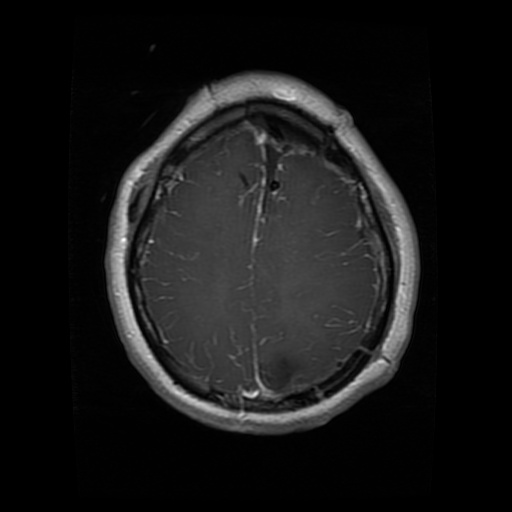glioma: (257, 355, 297, 391)
